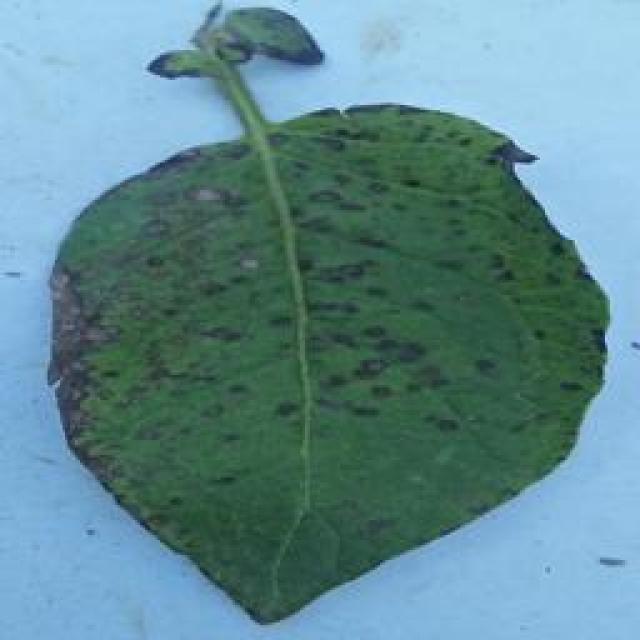Potato_Early_Blight: (2, 8, 634, 634)
